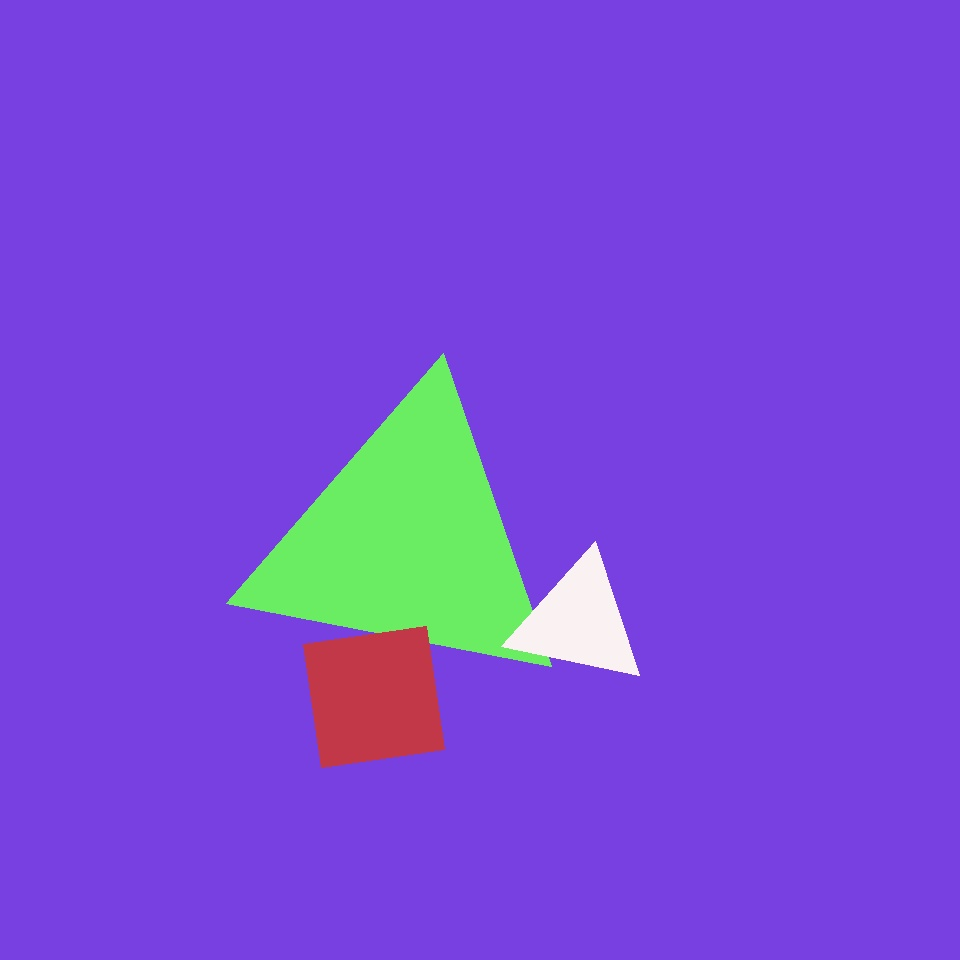circle: (244, 385, 570, 698), (510, 554, 648, 688)
square: (304, 626, 444, 768)
